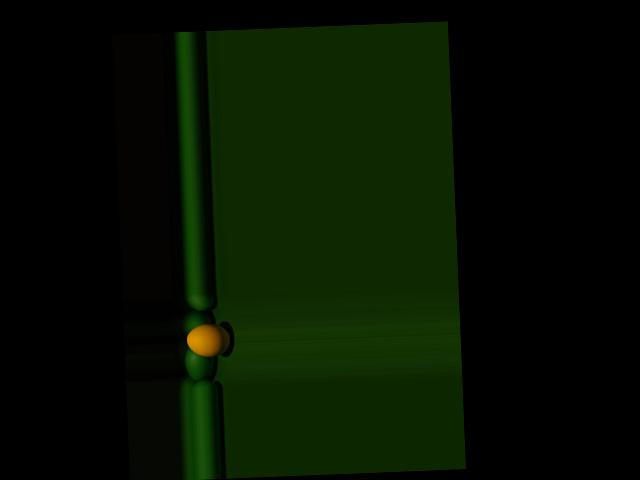egg: (186, 323, 231, 358)
